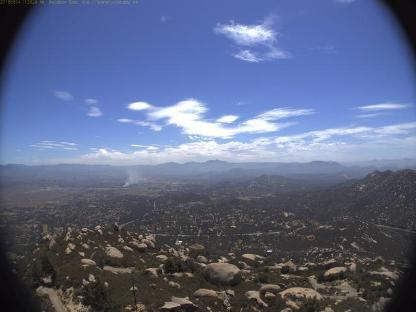smoke: (118, 156, 154, 189)
